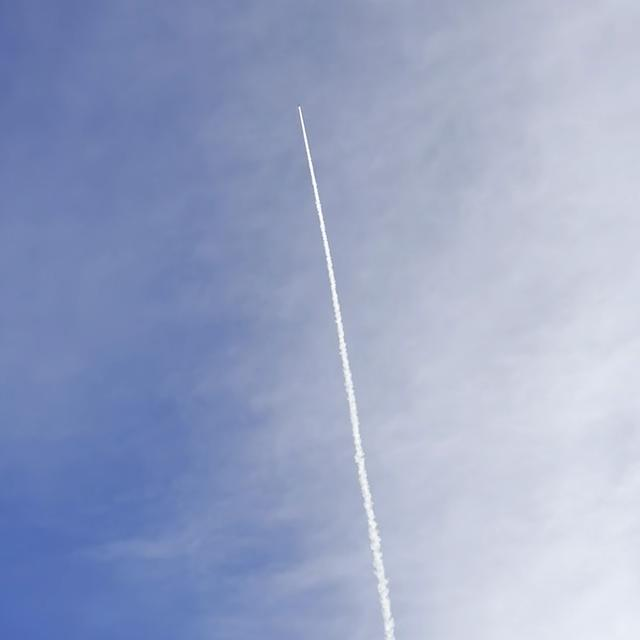smoke_trail_with_rocket: (298, 112, 396, 640)
